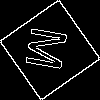M: (25, 25, 77, 74)
